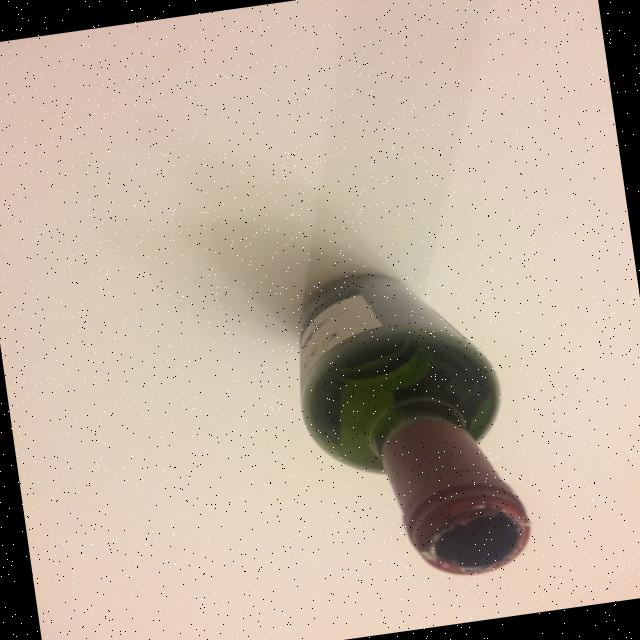glass: (243, 0, 556, 595), (282, 253, 538, 596)
